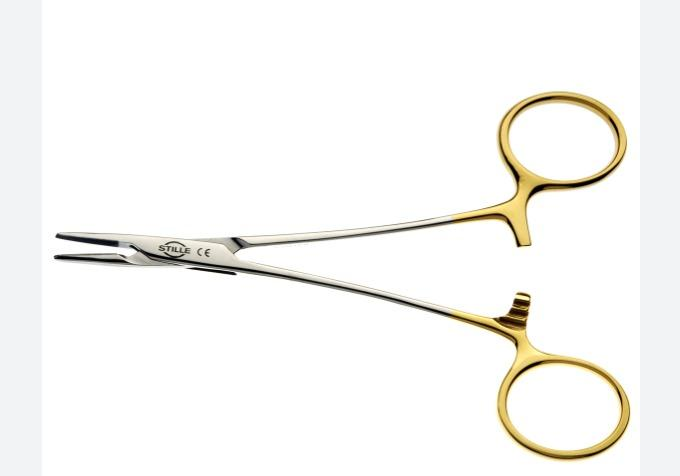Needle Holder: (49, 85, 632, 468)
